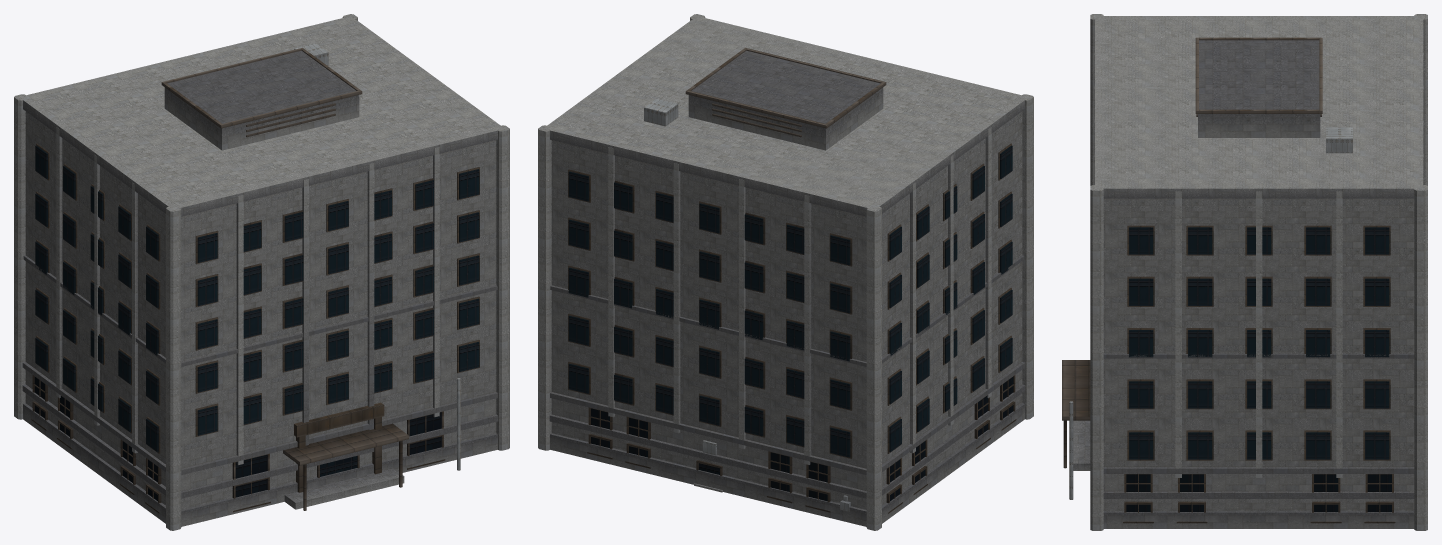
The model's file is ironport-savings-bank_lod0.gltf.
The picture shows the model from 3 angles, left to right: view 1: azimuth 30°, elevation 25°; view 2: azimuth 150°, elevation 25°; view 3: azimuth 270°, elevation 25°; orthographic projection. The views are drawn at different scales.
Parts seen in each view (by area): view 1: ironport-savings-bank_main, ironport-savings-bank__v4_stone_detail, ironport-savings-bank_fen_07-glass-curtain-blue_1_t, ironport-savings-bank_fen_12-bronze-metal_0, ironport-savings-bank__cornice, ironport-savings-bank__v4_metal_detail, ironport-savings-bank__trim_band, ironport-savings-bank__steps, ironport-savings-bank__surround_lintel; view 2: ironport-savings-bank_main, ironport-savings-bank__v4_stone_detail, ironport-savings-bank_fen_07-glass-curtain-blue_1_t, ironport-savings-bank__cornice, ironport-savings-bank_fen_12-bronze-metal_0, ironport-savings-bank__trim_band, ironport-savings-bank__v4_metal_detail, ironport-savings-bank__vent; view 3: ironport-savings-bank_main, ironport-savings-bank__cornice, ironport-savings-bank__v4_stone_detail, ironport-savings-bank_fen_07-glass-curtain-blue_1_t, ironport-savings-bank_fen_12-bronze-metal_0, ironport-savings-bank__v4_metal_detail, ironport-savings-bank__trim_band, ironport-savings-bank__steps, ironport-savings-bank__vent, ironport-savings-bank__flag.
Boxes of the visible parts, left/top/right/bottom form: ironport-savings-bank_main: left=23, top=18, right=500, bottom=509; ironport-savings-bank__v4_stone_detail: left=14, top=14, right=509, bottom=530; ironport-savings-bank_fen_07-glass-curtain-blue_1_t: left=34, top=145, right=479, bottom=501; ironport-savings-bank_fen_12-bronze-metal_0: left=31, top=143, right=479, bottom=513; ironport-savings-bank__cornice: left=22, top=16, right=504, bottom=216; ironport-savings-bank__v4_metal_detail: left=161, top=47, right=408, bottom=510; ironport-savings-bank__trim_band: left=22, top=384, right=498, bottom=498; ironport-savings-bank__steps: left=284, top=468, right=404, bottom=509; ironport-savings-bank__surround_lintel: left=294, top=402, right=384, bottom=437; ironport-savings-bank_main: left=547, top=18, right=1024, bottom=509; ironport-savings-bank__v4_stone_detail: left=538, top=14, right=1033, bottom=530; ironport-savings-bank_fen_07-glass-curtain-blue_1_t: left=568, top=145, right=1013, bottom=501; ironport-savings-bank__cornice: left=543, top=16, right=1026, bottom=216; ironport-savings-bank_fen_12-bronze-metal_0: left=568, top=143, right=1016, bottom=513; ironport-savings-bank__trim_band: left=549, top=384, right=1025, bottom=498; ironport-savings-bank__v4_metal_detail: left=685, top=47, right=886, bottom=137; ironport-savings-bank__vent: left=644, top=98, right=678, bottom=126; ironport-savings-bank_main: left=1098, top=17, right=1419, bottom=511; ironport-savings-bank__cornice: left=1095, top=16, right=1423, bottom=198; ironport-savings-bank__v4_stone_detail: left=1090, top=14, right=1427, bottom=530; ironport-savings-bank_fen_07-glass-curtain-blue_1_t: left=1126, top=227, right=1391, bottom=511; ironport-savings-bank_fen_12-bronze-metal_0: left=1123, top=225, right=1395, bottom=523; ironport-savings-bank__v4_metal_detail: left=1062, top=37, right=1322, bottom=468; ironport-savings-bank__trim_band: left=1103, top=491, right=1414, bottom=498; ironport-savings-bank__steps: left=1073, top=420, right=1090, bottom=470; ironport-savings-bank__vent: left=1326, top=127, right=1352, bottom=153; ironport-savings-bank__flag: left=1069, top=401, right=1073, bottom=499.
Size of the model in its own units: 31.19 by 30.3 by 27.29.
